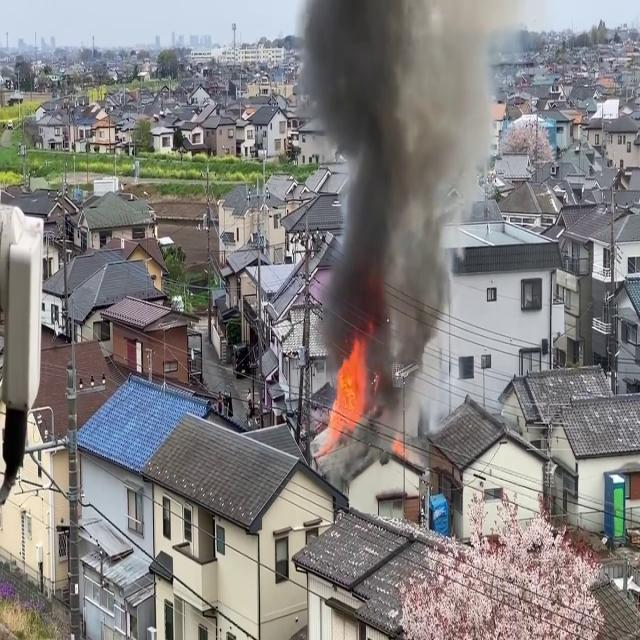Fire: (319, 334, 371, 451)
Smoke: (305, 0, 481, 404)
